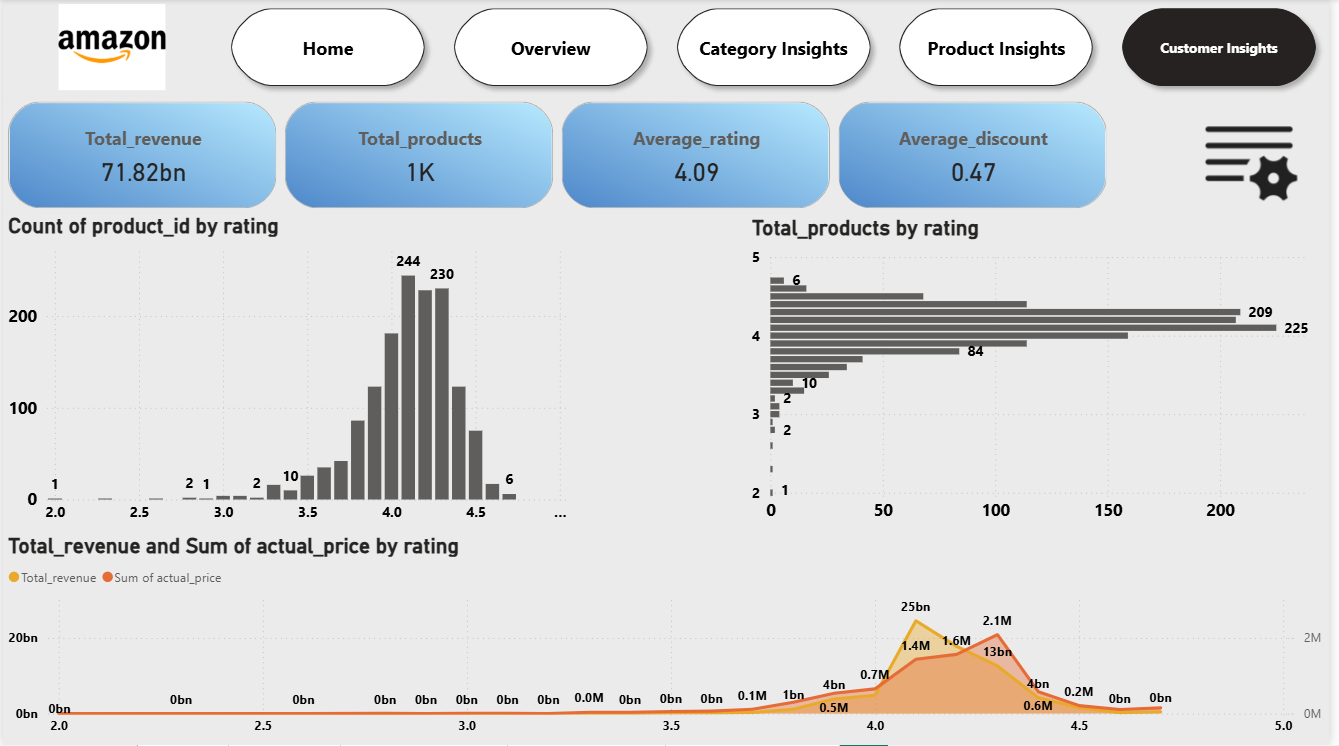

The dashboard page shown, as its layout file describes it:
{"tool":"powerbi","page":{"name":"Customer Insights","canvas":[1280,720],"ordinal":4},"visuals":[{"type":"image","box":[0,0,211.1,92.9],"z":0},{"type":"pageNavigator","box":[211,0,1069,93.3],"z":1000},{"type":"clusteredColumnChart","fields":{"Category":["amazon.rating"],"Y":["CountNonNull(amazon.product_id)"]},"box":[0,206,549.8,309],"z":2000},{"type":"clusteredBarChart","fields":{"Category":["amazon.rating"],"Y":["amazon.Total_products"]},"box":[718.3,208.3,561.4,306.3],"z":3000},{"type":"lineChart","fields":{"Category":["amazon.rating"],"Y":["amazon.Total_revenue"],"Y2":["Sum(amazon.actual_price)"]},"box":[0,515,1279.8,204.7],"z":4000},{"type":"cardVisual","fields":{"Data":["amazon.Total_revenue","amazon.Total_products","amazon.Average_rating","amazon.Average_discount"]},"box":[0,93.6,1071.5,113.2],"z":5000},{"type":"actionButton","title":"Show","box":[1146.6,93,133.1,113],"z":7000}]}

Visuals, with their boxes in screenshot pixels (x1, y1, x2, y2), scaled from the page's 1280x720 canvas onto the 1339x746 screenshot:
image: (x1=0, y1=0, x2=221, y2=96)
pageNavigator: (x1=221, y1=0, x2=1338, y2=97)
clusteredColumnChart - amazon.rating x CountNonNull(amazon.product_id): (x1=0, y1=213, x2=575, y2=534)
clusteredBarChart - amazon.rating x amazon.Total_products: (x1=751, y1=216, x2=1338, y2=533)
lineChart - amazon.rating x amazon.Total_revenue: (x1=0, y1=534, x2=1338, y2=745)
cardVisual - amazon.Total_revenue x amazon.Total_products: (x1=0, y1=97, x2=1121, y2=214)
"Show" actionButton: (x1=1199, y1=96, x2=1338, y2=213)
